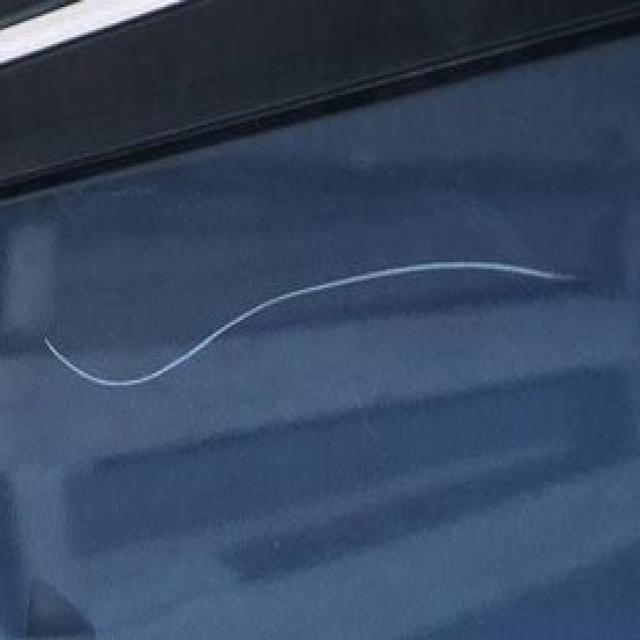scratch: (37, 250, 589, 396)
